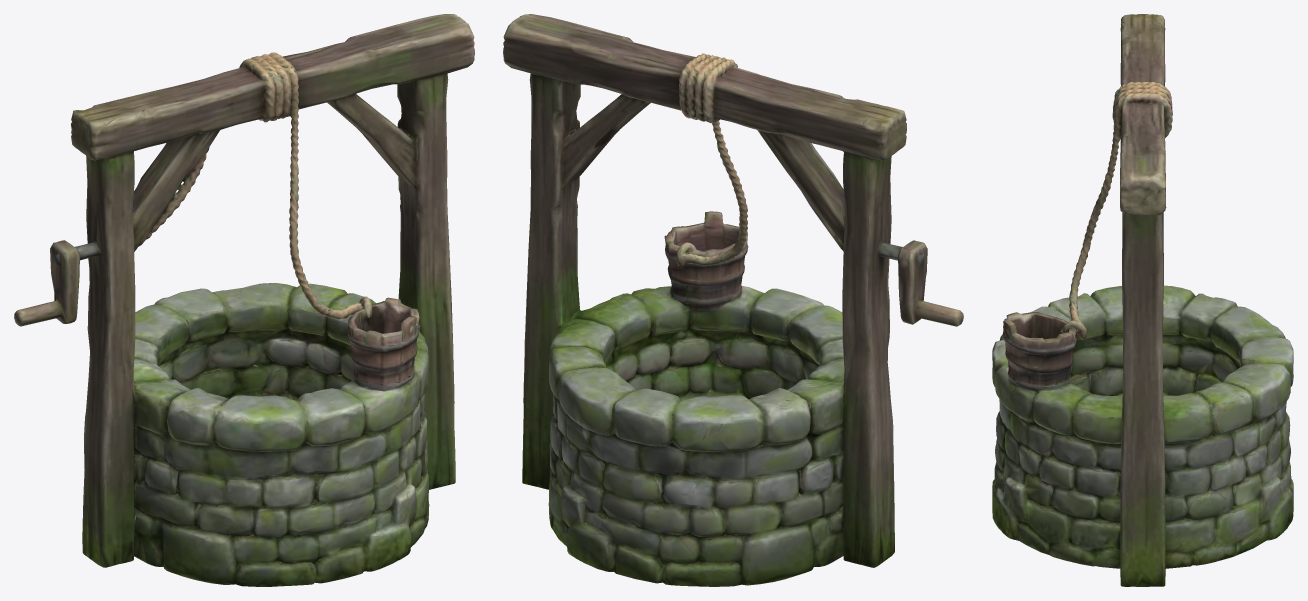
The model's file is well.glb.
The picture shows the model from 3 angles, left to right: view 1: azimuth 30°, elevation 25°; view 2: azimuth 150°, elevation 25°; view 3: azimuth 270°, elevation 25°; orthographic projection. The views are drawn at different scales.
Parts seen in each view (by area): view 1: Mesh_0; view 2: Mesh_0; view 3: Mesh_0.
Part boxes in pixels (x1,y1,x2,y2): Mesh_0: (14, 14, 474, 586); Mesh_0: (503, 14, 963, 586); Mesh_0: (992, 14, 1293, 586).
Size of the model in its own units: 1.9 by 1.85 by 1.2.
Materials: 1 (1 with a texture image).
